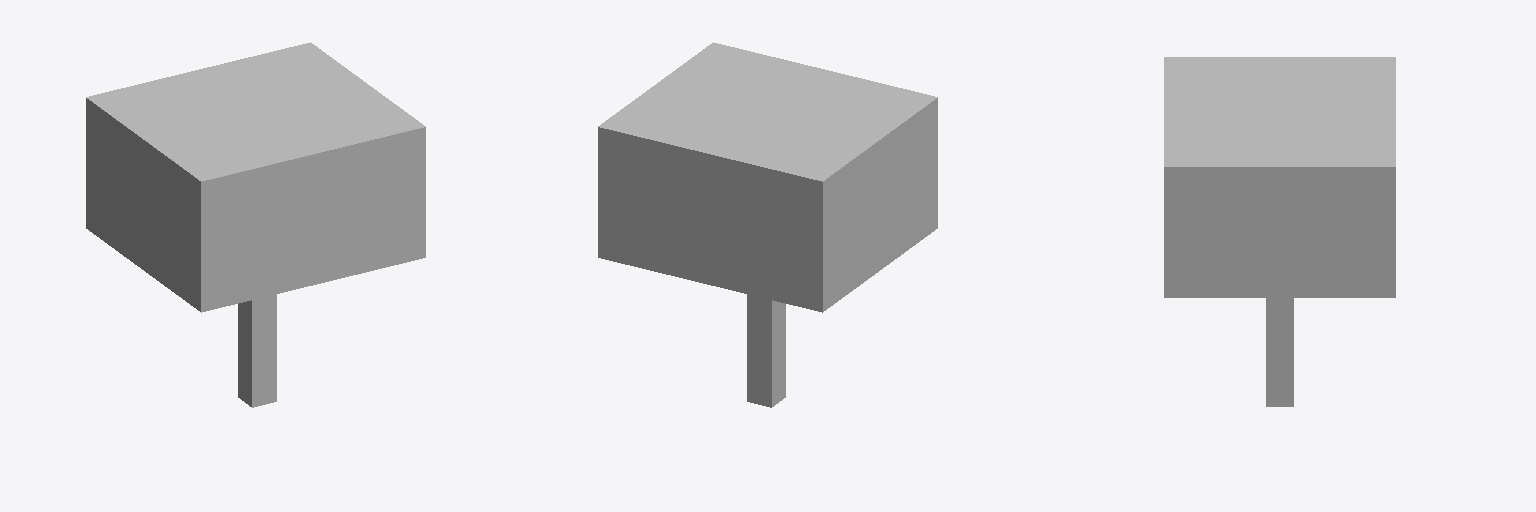
Rendered from tree.obj.
3 renders of one model, left to right at view 1: azimuth 30°, elevation 25°; view 2: azimuth 150°, elevation 25°; view 3: azimuth 270°, elevation 25°, orthographic.
Parts seen in each view (by area): view 1: Cube.002, Cube; view 2: Cube.002, Cube; view 3: Cube.002, Cube.
Part boxes in pixels (x1,y1,x2,y2): Cube.002: (86, 42, 425, 312); Cube: (238, 294, 276, 407); Cube.002: (598, 42, 937, 312); Cube: (747, 294, 785, 407); Cube.002: (1164, 57, 1395, 297); Cube: (1266, 298, 1293, 406).
Bounding box in the file's own units: 18 × 22 × 16.